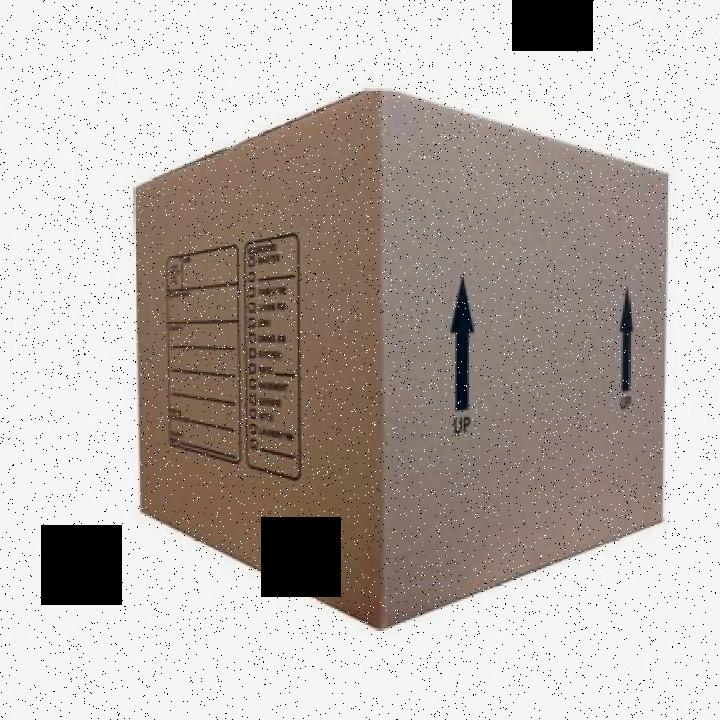box: (111, 84, 677, 645)
